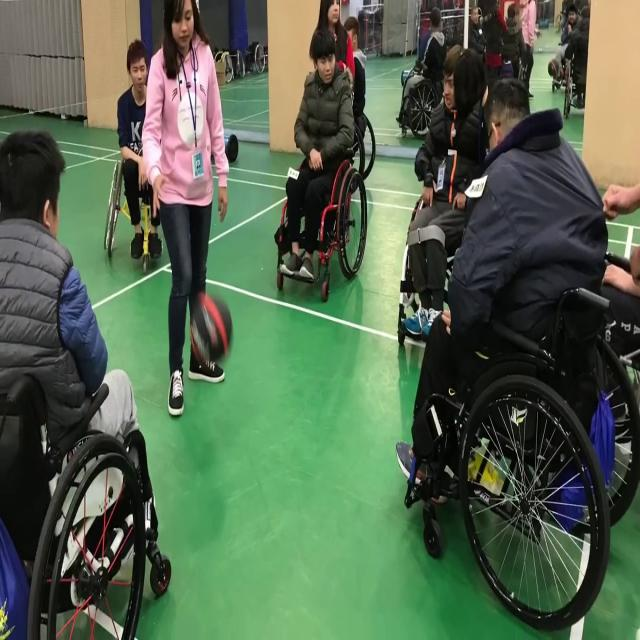wheelchairs: (391, 266, 640, 637), (0, 367, 198, 640), (264, 139, 375, 324), (392, 190, 494, 356), (96, 136, 190, 290), (394, 40, 461, 153)
